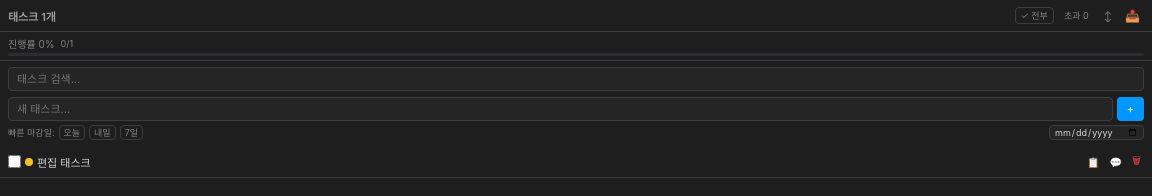
it: TasksPanel › 태스크 텍스트 더블클릭 시 편집 input이 표시된다
Double-click the text "편집 태스크": (64, 162) [37, 156, 91, 170]
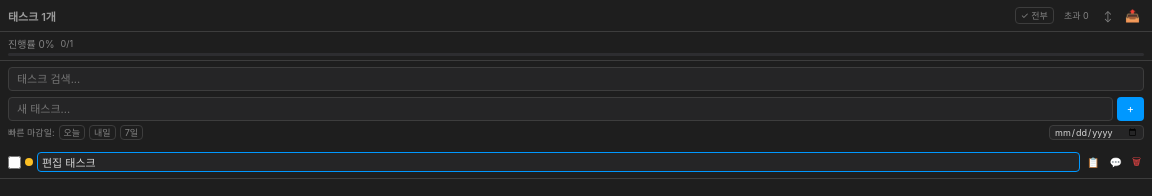
Expected: the field showing "편집 태스크" is shown, [37, 152, 1080, 172]
